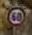limite 60: (6, 6, 25, 26)
